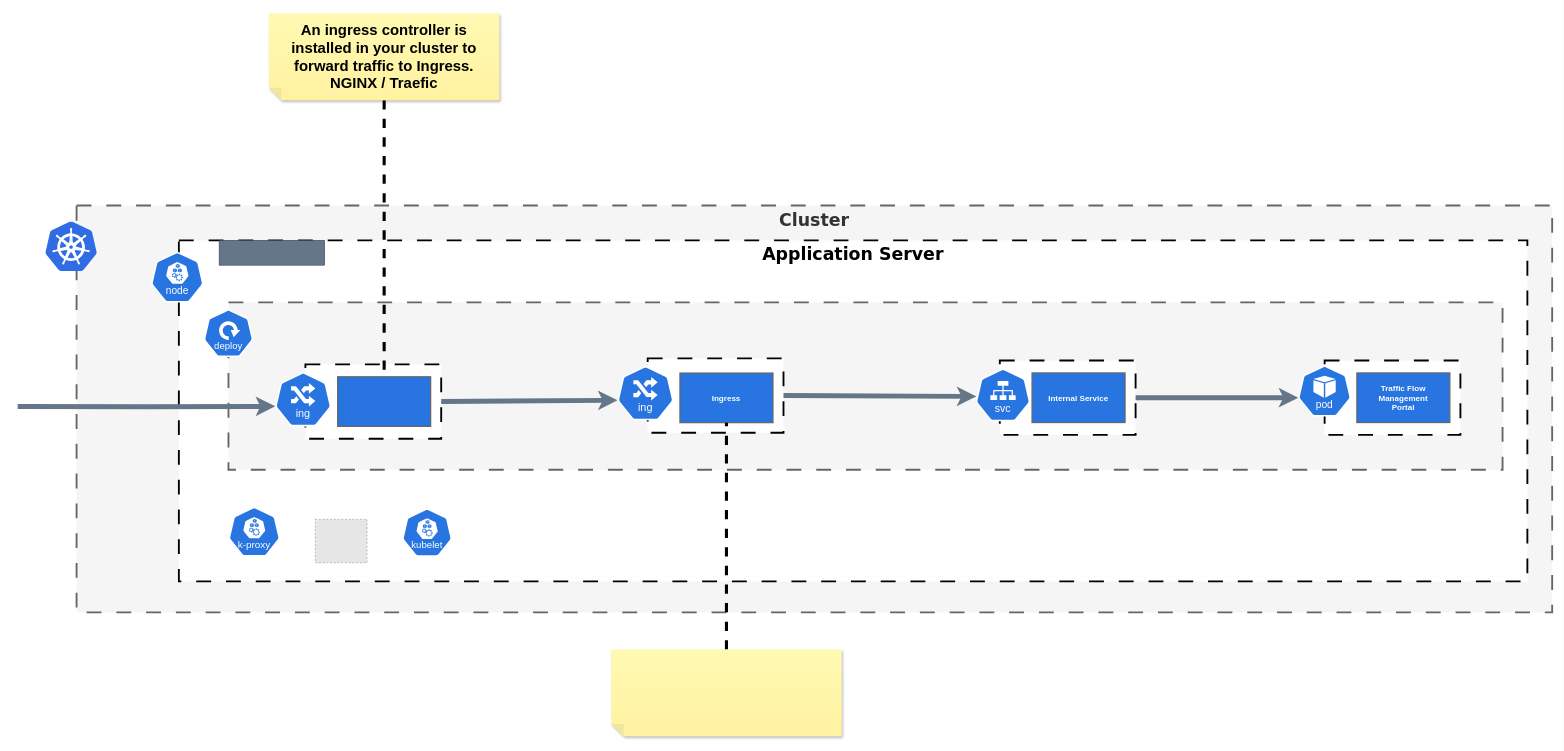
The diagram is 1564 pixels wide and 751 high, and some of its shapes have lost their labels. Grey dashed boxes stand in for pictures. Each missing label, with the centre of its shape:
Ingress Controller: point (384, 401)
Node: point (272, 252)
POD in your cluster. It defines host names and routing rules.: point (726, 693)
